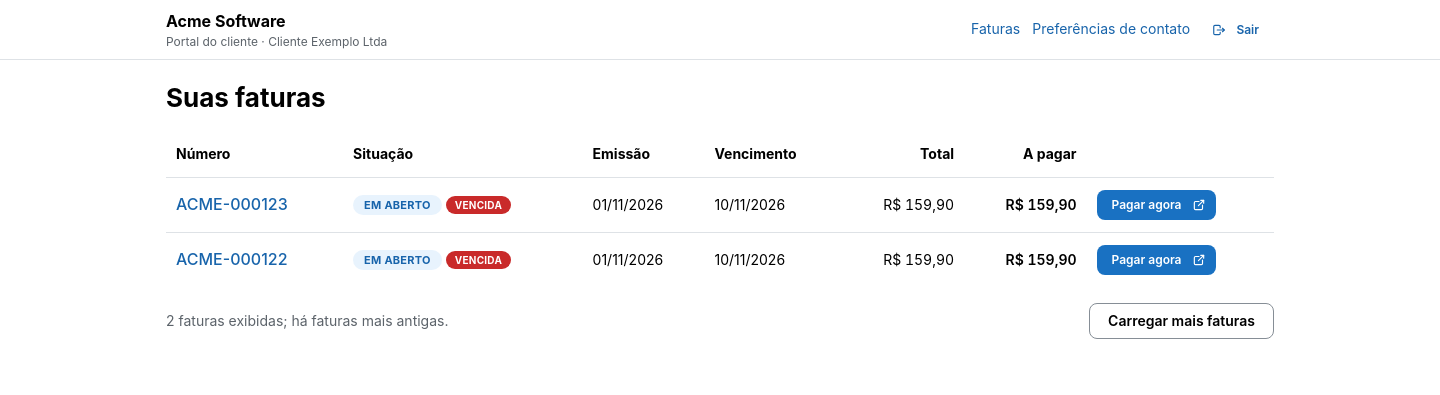
Test case: portal do cliente › carrega mais faturas pelo cursor, mantendo as já exibidas
Expected: the number of rows is 3, [166, 131, 1274, 177]; [166, 177, 1274, 232]; [166, 232, 1274, 287]
Expected: the text "2 faturas exibidas; há faturas mais antigas." is shown, [166, 311, 448, 331]
Click the button "Carregar mais faturas": point(1182, 321) [1089, 303, 1274, 339]
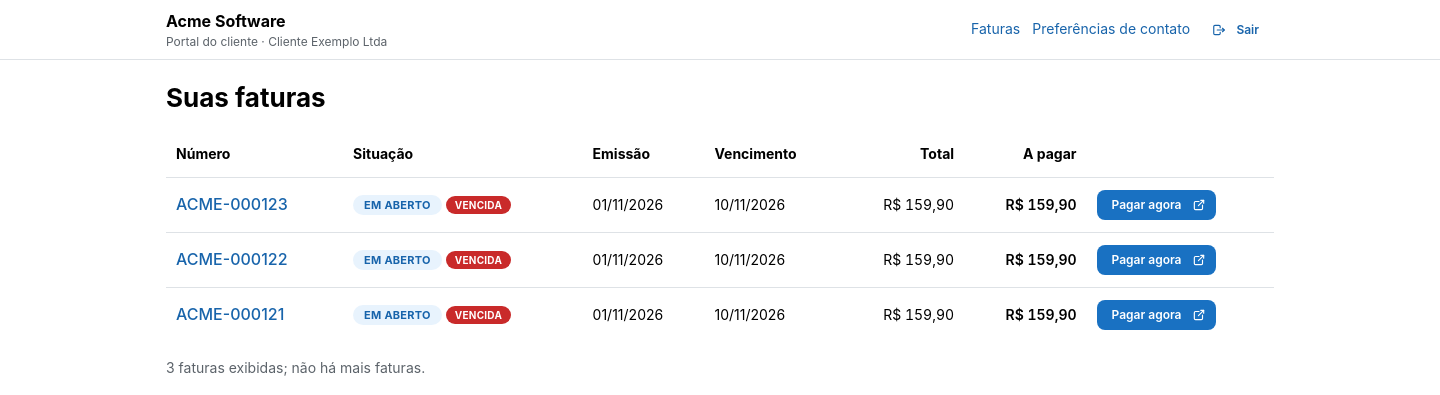
Expected: the link "ACME-000121" is shown, [176, 304, 284, 324]
Expected: the links "ACME-" read "ACME-000123", "ACME-000122", "ACME-000121", in this order, [176, 194, 288, 214]; [176, 249, 288, 269]; [176, 304, 284, 324]
Expected: the button "Carregar mais faturas" is gone
